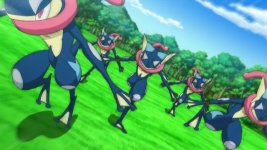greninja: (1, 1, 130, 124), (98, 33, 184, 129), (183, 69, 266, 150), (158, 65, 213, 120), (75, 23, 127, 81)
